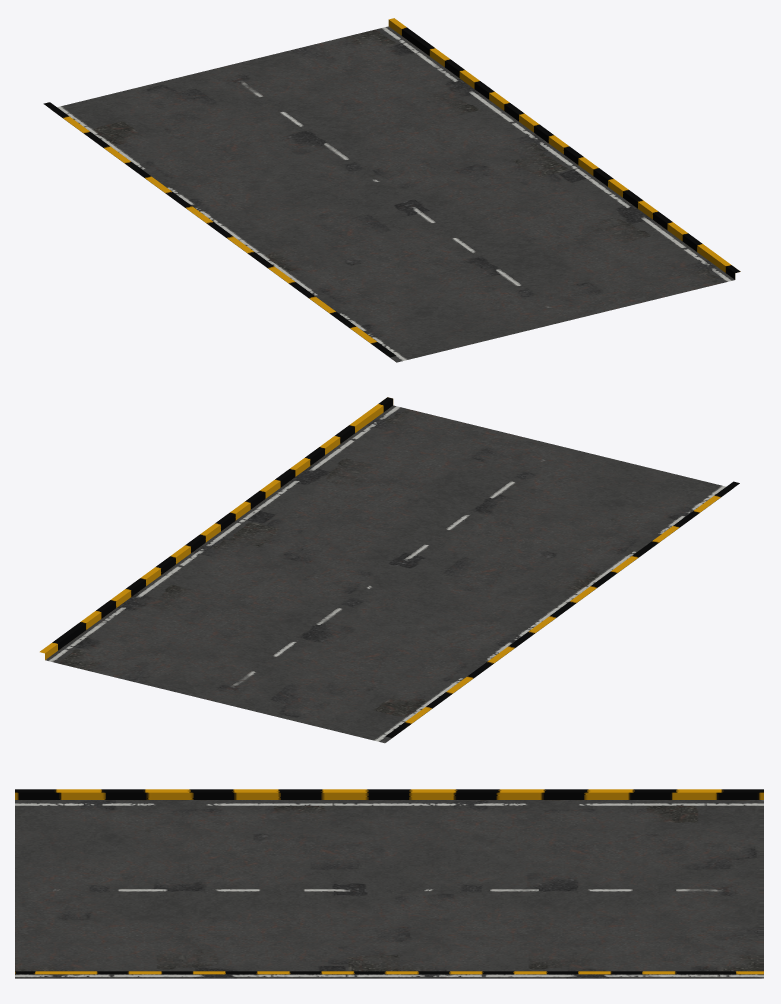
File: road (1).glb
3 renders of one model, top to bottom at view 1: azimuth 30°, elevation 25°; view 2: azimuth 150°, elevation 25°; view 3: azimuth 270°, elevation 25°, orthographic. The views are drawn at different scales.
Parts seen in each view (by area): view 1: Plane; view 2: Plane; view 3: Plane.
Boxes of the visible parts, left/top/right/bottom form: Plane: left=43, top=18, right=740, bottom=362; Plane: left=40, top=397, right=739, bottom=743; Plane: left=15, top=789, right=763, bottom=978.
Bounding box in the file's own units: 312 × 5.03 × 466.
Materials: 1 (1 with a texture image).
